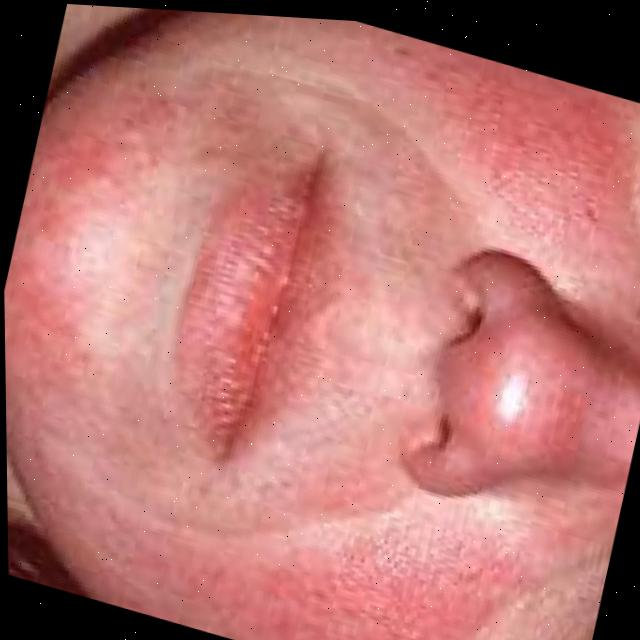Rosacea: (101, 435, 531, 640), (1, 73, 164, 392), (406, 43, 640, 244)
